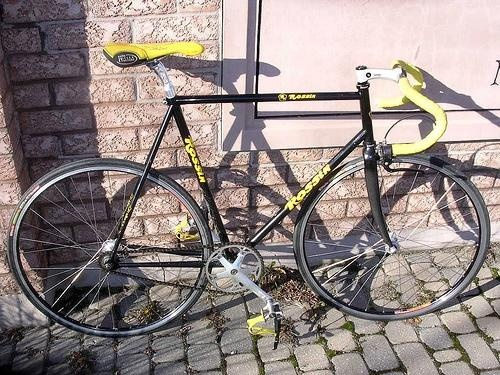bicycle: (8, 42, 492, 351)
